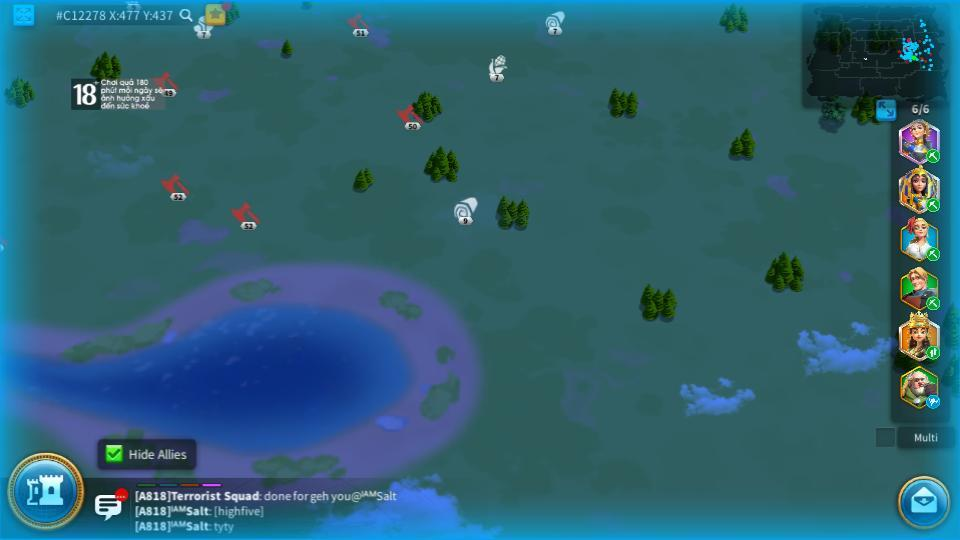march_farming: (924, 197, 939, 212), (924, 149, 939, 162), (925, 298, 941, 309)
march_idle: (925, 396, 942, 408)
march_marching: (925, 345, 941, 359)
